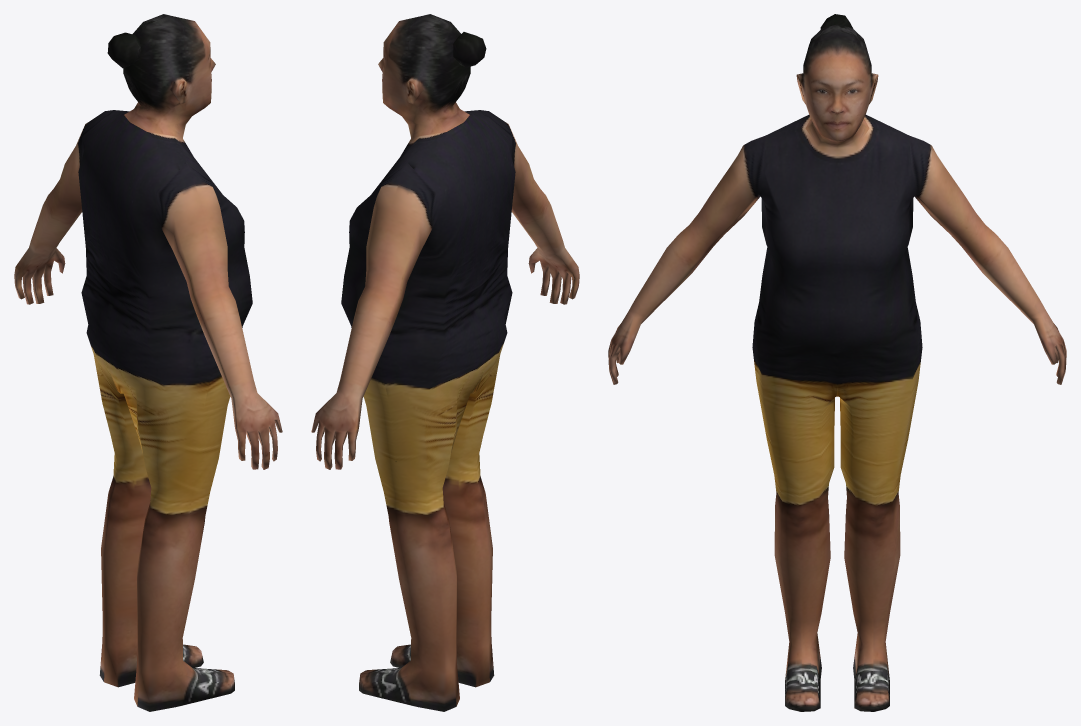
Rendered from Character_55_Female.fbx.
3 renders of one model, left to right at view 1: azimuth 30°, elevation 25°; view 2: azimuth 150°, elevation 25°; view 3: azimuth 270°, elevation 25°, orthographic.
Visible parts, largest first — view 1: Character_55_Female; view 2: Character_55_Female; view 3: Character_55_Female.
Part boxes in pixels (bbox=[...]): Character_55_Female: bbox=[14, 14, 282, 711]; Character_55_Female: bbox=[311, 14, 579, 711]; Character_55_Female: bbox=[608, 14, 1066, 711].
Size of the model in its own units: 0.2984 by 1.51 by 0.955.
